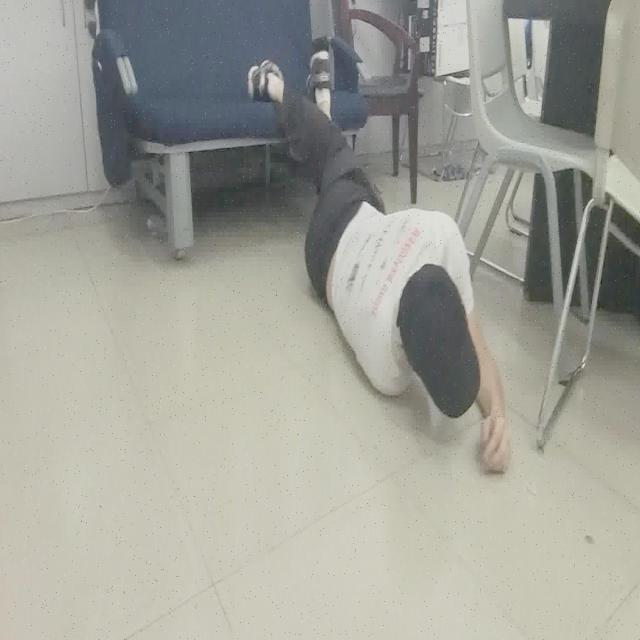fall: (246, 40, 514, 478)
